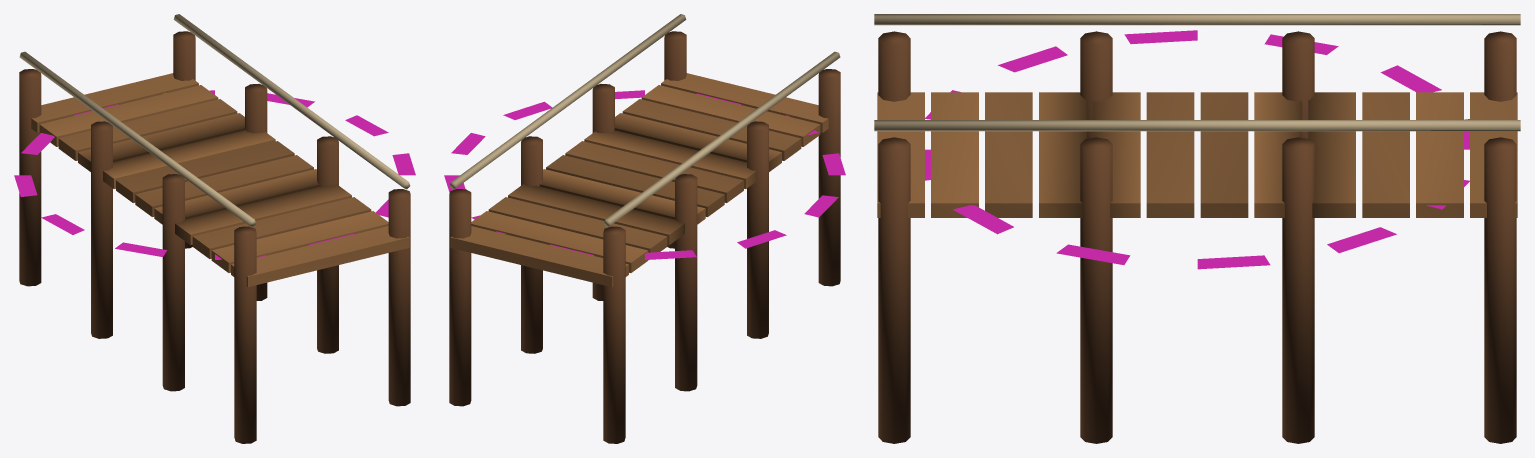
Rendered from debarcader.glb.
The picture shows the model from 3 angles, left to right: view 1: azimuth 30°, elevation 25°; view 2: azimuth 150°, elevation 25°; view 3: azimuth 270°, elevation 25°; orthographic projection. The views are drawn at different scales.
Visible parts, largest first — view 1: Corp, Marcaj_PLACEHOLDER; view 2: Corp, Marcaj_PLACEHOLDER; view 3: Corp, Marcaj_PLACEHOLDER.
Boxes of the visible parts, left/top/right/bottom form: Corp: left=19, top=14, right=410, bottom=443; Marcaj_PLACEHOLDER: left=14, top=90, right=415, bottom=259; Corp: left=449, top=14, right=840, bottom=443; Marcaj_PLACEHOLDER: left=444, top=90, right=845, bottom=259; Corp: left=874, top=14, right=1520, bottom=443; Marcaj_PLACEHOLDER: left=925, top=30, right=1469, bottom=269.
Bounding box in the file's own units: 2.8 × 1.72 × 3.2.
